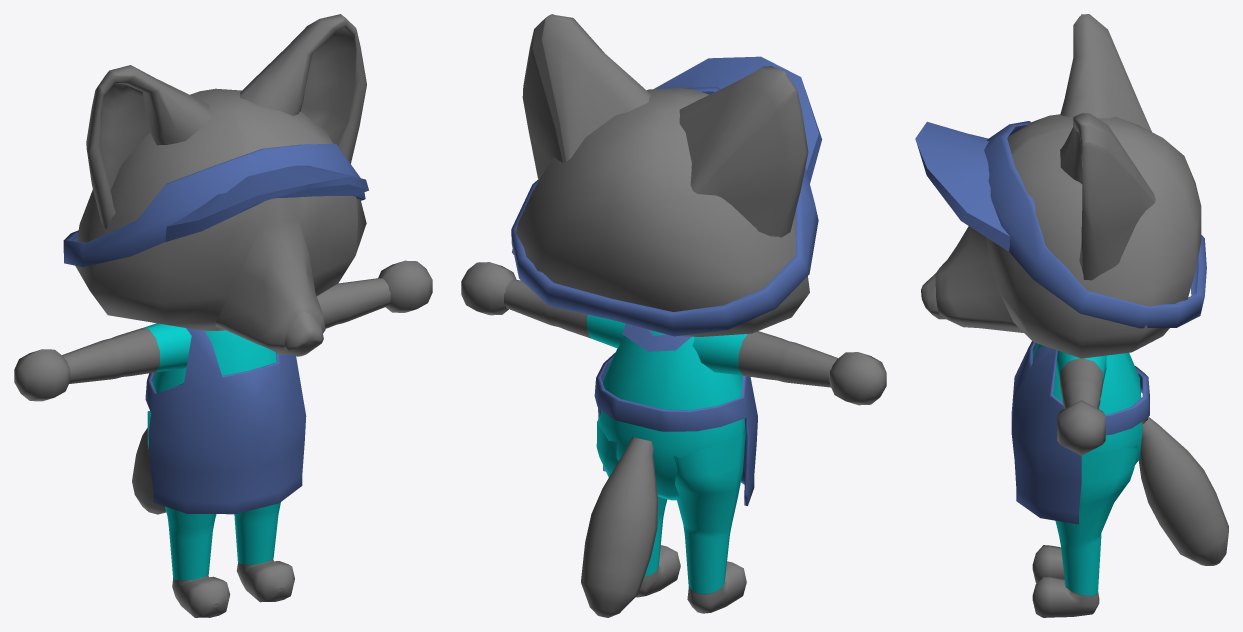
Rendered from Fox_FBX.fbx.
3 views of the same model, side by side, from view 1: azimuth 30°, elevation 25°; view 2: azimuth 150°, elevation 25°; view 3: azimuth 270°, elevation 25° (orthographic). The views are drawn at different scales.
Parts seen in each view (by area): view 1: Fox_Geo; view 2: Fox_Geo; view 3: Fox_Geo.
Part boxes in pixels (x1,y1,x2,y2): Fox_Geo: (14, 14, 432, 617); Fox_Geo: (461, 14, 886, 617); Fox_Geo: (915, 14, 1228, 617).
Bounding box in the file's own units: 7.05 × 8.94 × 4.79.
